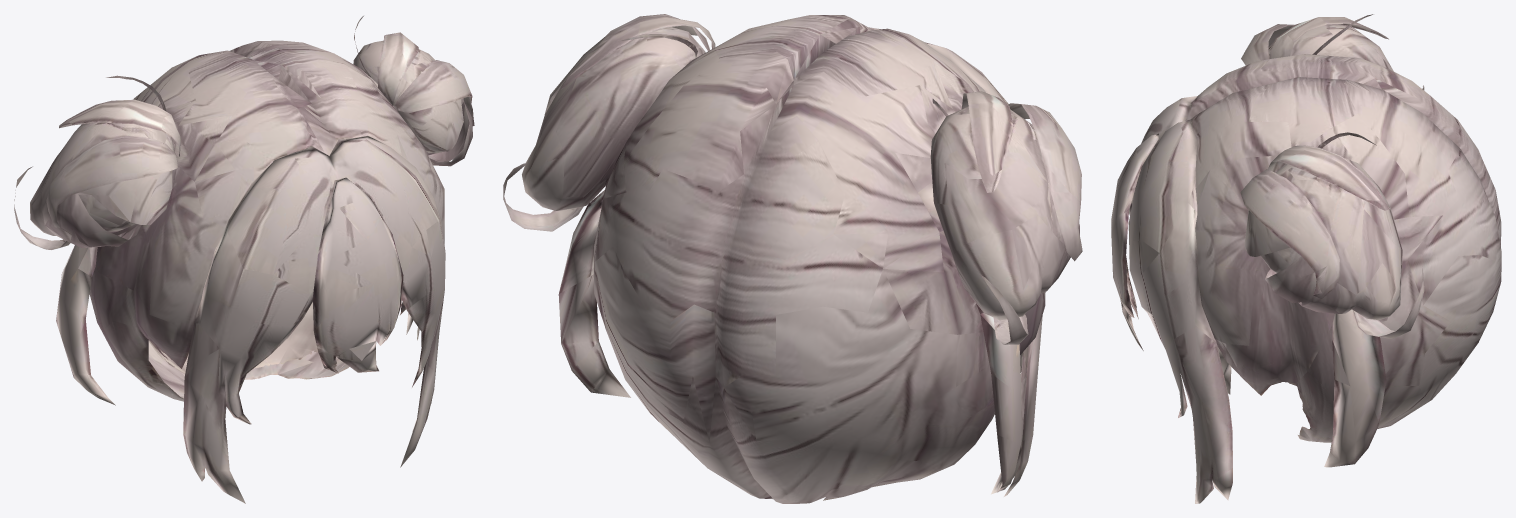
File: buns.glb
3 views of the same model, side by side, from view 1: azimuth 30°, elevation 25°; view 2: azimuth 150°, elevation 25°; view 3: azimuth 270°, elevation 25° (orthographic). The views are drawn at different scales.
Visible parts, largest first — view 1: Mesh_0; view 2: Mesh_0; view 3: Mesh_0.
Boxes of the visible parts, x1,y1,x2,y2 form: Mesh_0: (14,16,474,503); Mesh_0: (503,14,1082,503); Mesh_0: (1111,14,1501,503).
Size of the model in its own units: 2 by 1.75 by 1.57.
Materials: 1 (1 with a texture image).
